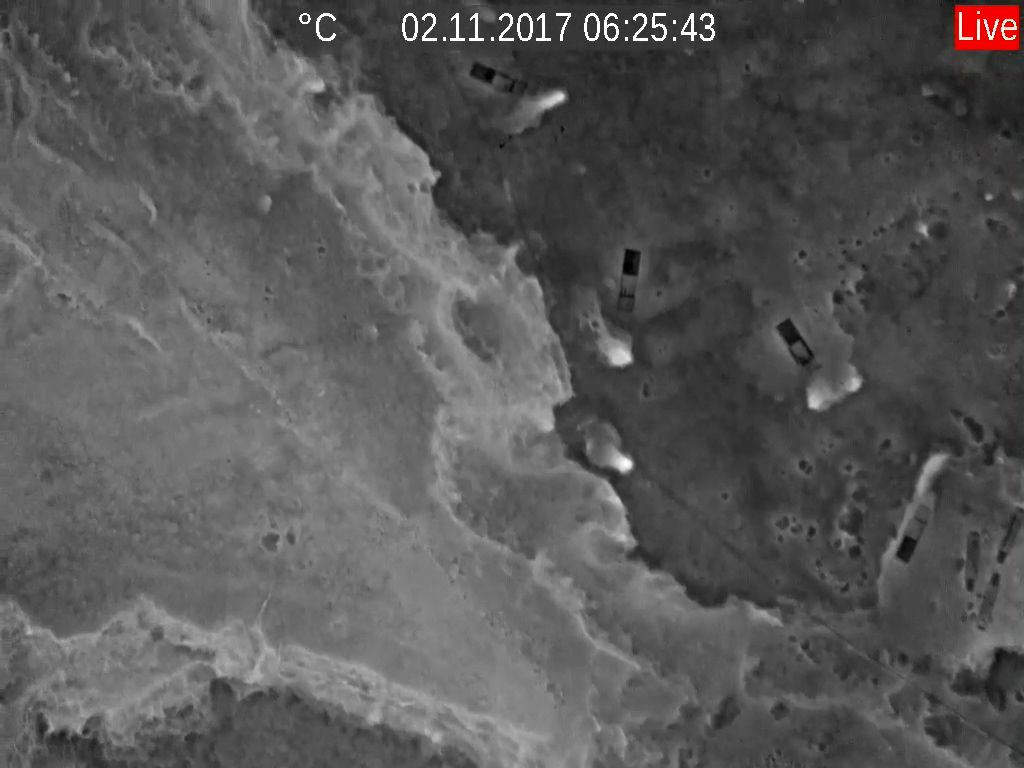warren: (584, 305, 638, 375), (583, 426, 636, 477), (522, 85, 575, 134), (910, 439, 950, 499), (837, 362, 866, 399), (800, 380, 831, 413)
